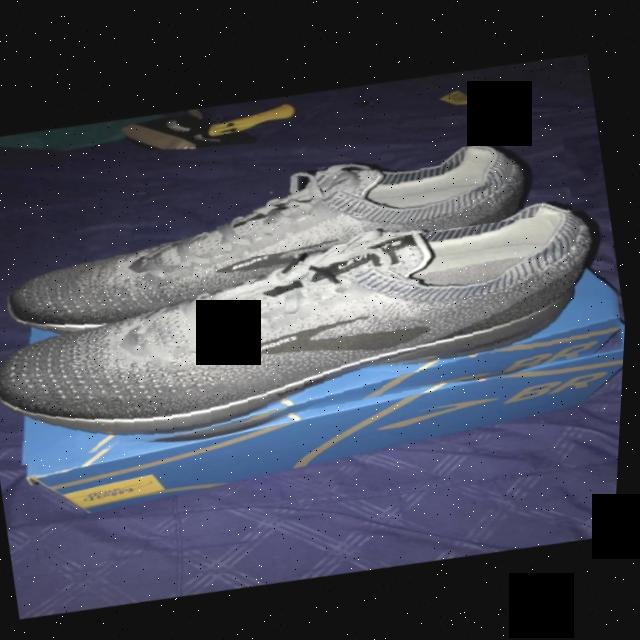shoe: (0, 174, 633, 495), (0, 104, 592, 387)
